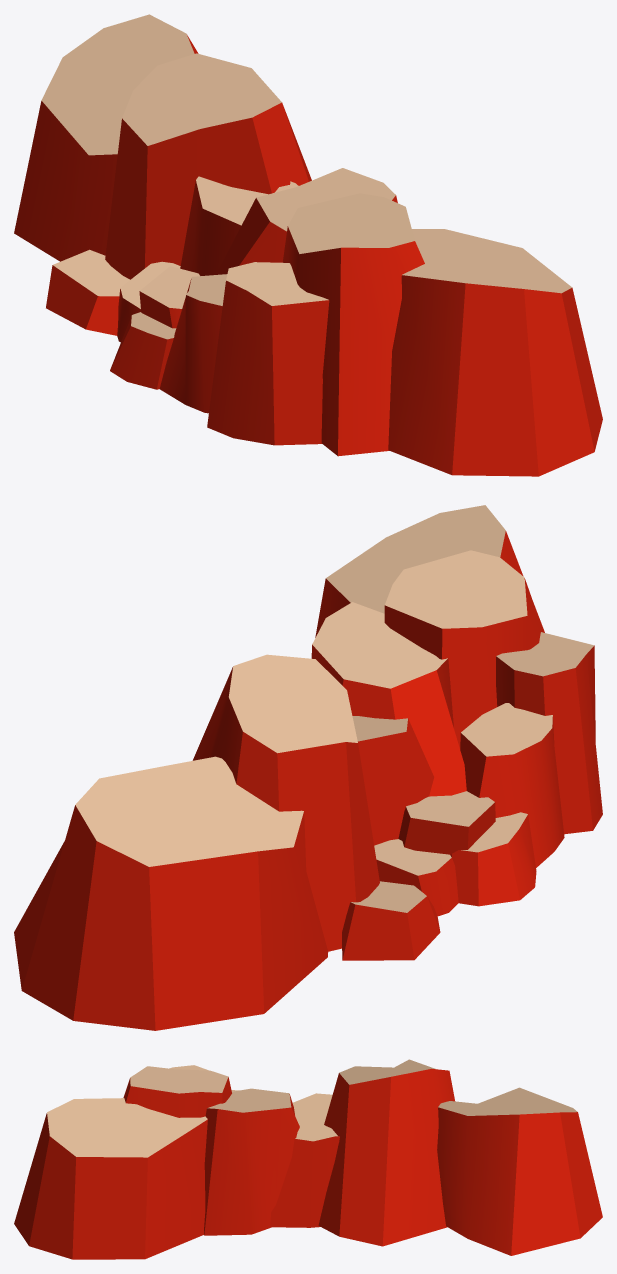
Rendered from Big_Mountain_01.fbx.
3 views of the same model, one above another, from view 1: azimuth 30°, elevation 25°; view 2: azimuth 150°, elevation 25°; view 3: azimuth 270°, elevation 25° (orthographic). The views are drawn at different scales.
Parts seen in each view (by area): view 1: Big_Mountain_01; view 2: Big_Mountain_01; view 3: Big_Mountain_01.
Boxes of the visible parts, x1,y1,x2,y2 form: Big_Mountain_01: [14, 14, 602, 476]; Big_Mountain_01: [14, 505, 602, 1030]; Big_Mountain_01: [14, 1059, 602, 1259].
Bounding box in the file's own units: 2001 × 1249 × 4654.
